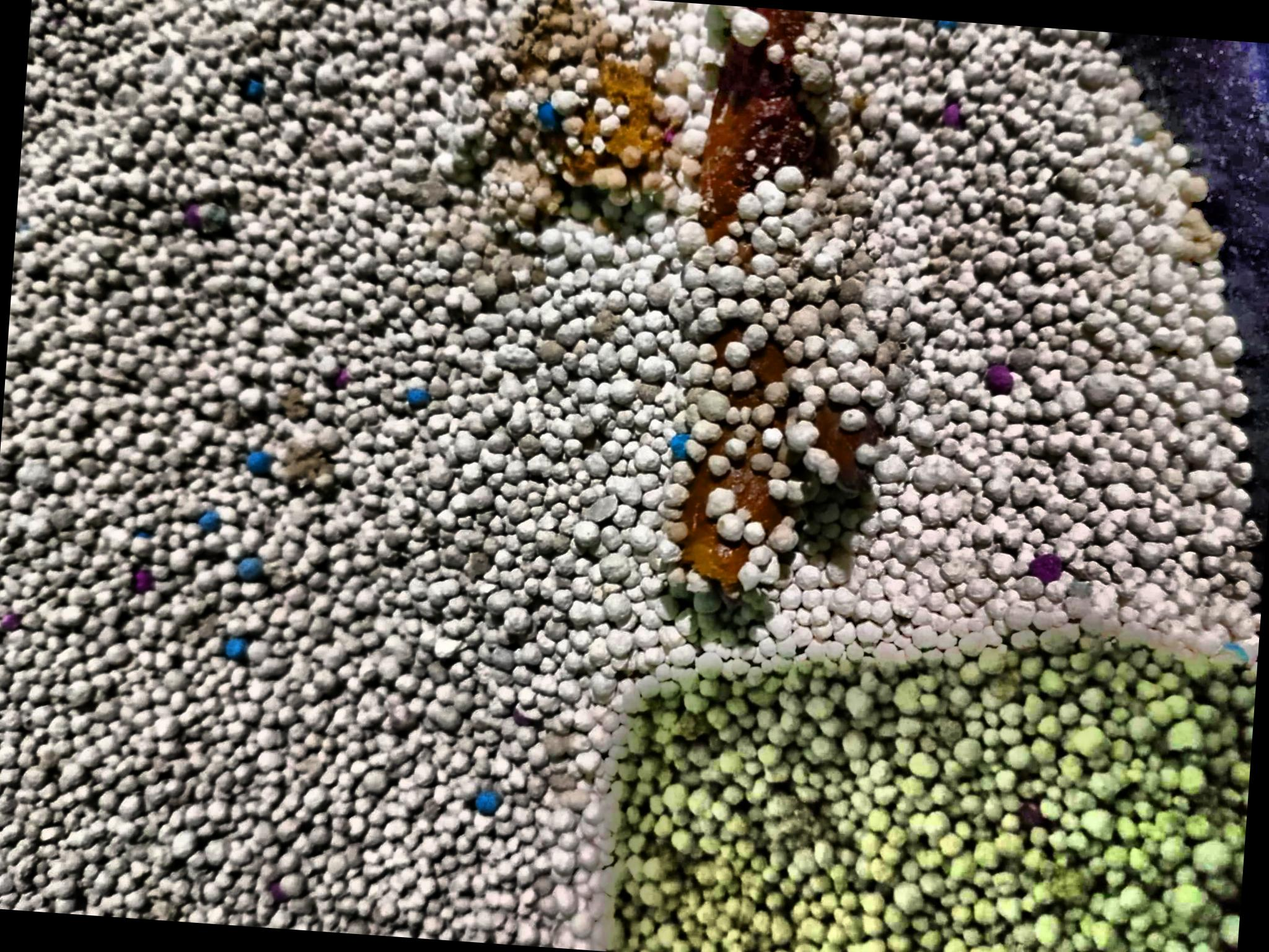poop: (674, 6, 887, 588)
